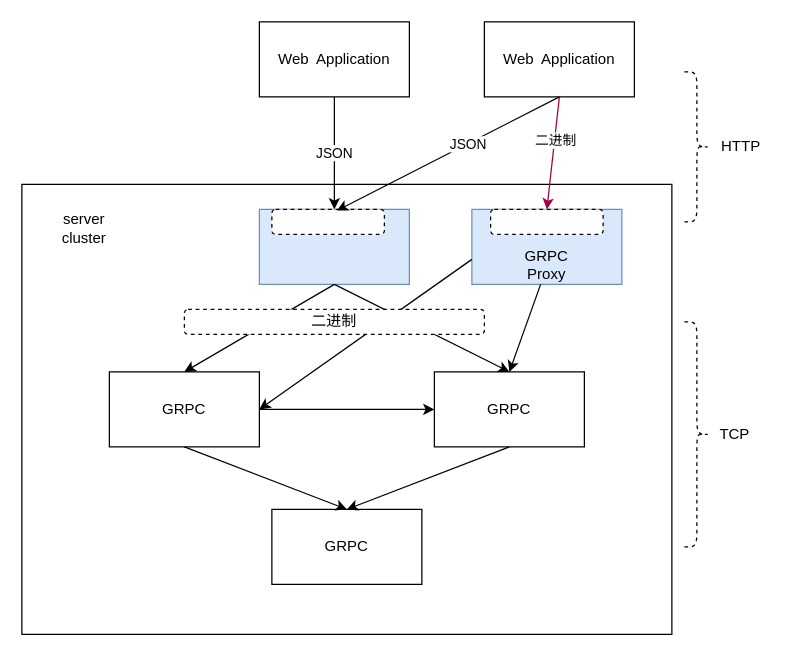
This 794x656 diagram has some shape labels left out. Here are the shapes that lost their labels. From the top down, the box of each, then its label:
(271, 208, 384, 234): REST API
(489, 208, 603, 234): RPC
(258, 208, 409, 284): GRPC Gateway
